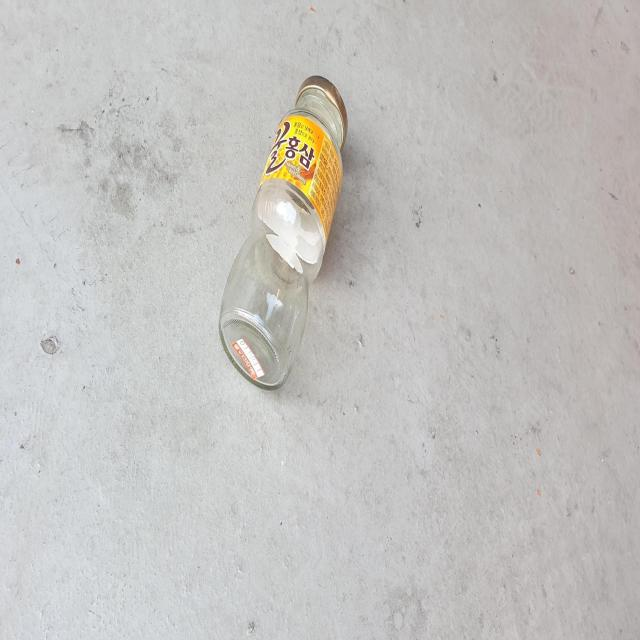glass: (219, 75, 348, 387)
